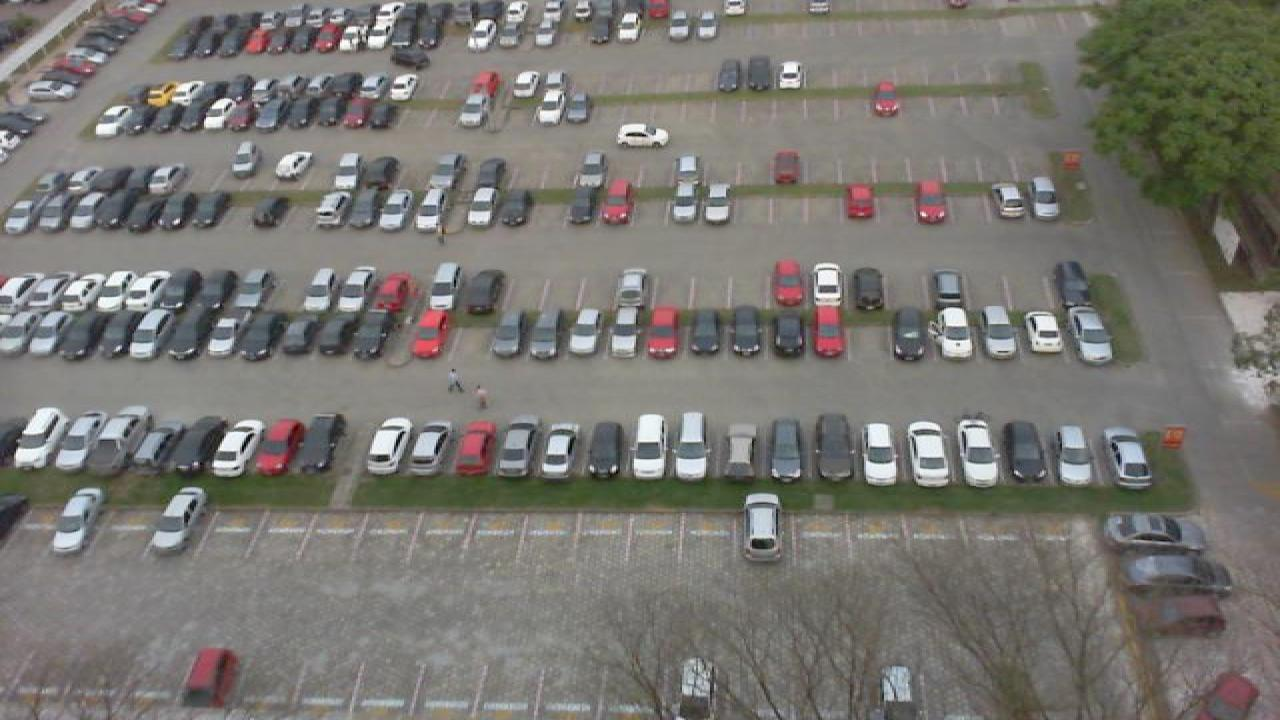Car: (1104, 512, 1212, 553), (1128, 551, 1228, 595), (50, 487, 104, 556), (156, 487, 208, 556), (954, 418, 1002, 486), (92, 407, 144, 469), (168, 417, 222, 476), (298, 413, 348, 476), (126, 418, 182, 474), (210, 419, 264, 477), (906, 420, 952, 488), (1002, 421, 1050, 486), (1104, 428, 1154, 490), (814, 413, 856, 485), (14, 406, 64, 466), (670, 410, 710, 482), (630, 411, 672, 479), (52, 412, 102, 469), (256, 418, 304, 476), (1054, 424, 1098, 487), (498, 416, 542, 478), (742, 493, 782, 561), (408, 422, 458, 476), (366, 418, 414, 474), (1068, 305, 1114, 363), (860, 423, 900, 486), (768, 418, 806, 482), (586, 420, 626, 479), (456, 421, 498, 477), (934, 305, 976, 361), (542, 422, 582, 479), (722, 424, 760, 483), (978, 307, 1020, 359), (422, 262, 464, 314), (808, 305, 848, 359), (890, 307, 930, 361), (462, 72, 502, 125), (1024, 310, 1068, 356), (1052, 260, 1092, 310), (352, 308, 390, 360), (644, 308, 682, 360), (686, 306, 724, 358), (766, 307, 804, 359), (94, 309, 132, 360), (28, 310, 70, 356), (158, 268, 200, 314), (234, 269, 276, 314), (62, 313, 102, 360), (240, 313, 280, 360), (128, 308, 164, 360), (204, 308, 240, 360), (278, 314, 318, 360), (338, 266, 378, 312), (492, 308, 528, 359), (606, 308, 642, 359), (462, 269, 502, 314), (912, 179, 950, 226), (532, 307, 566, 359), (568, 306, 602, 358), (314, 312, 352, 358), (614, 266, 652, 312), (302, 266, 340, 312), (810, 262, 846, 310), (770, 260, 806, 308), (928, 269, 970, 310), (376, 271, 416, 314), (124, 270, 164, 313), (728, 308, 762, 358), (168, 314, 204, 361), (20, 275, 62, 315), (412, 310, 446, 359), (2, 189, 40, 232), (56, 275, 96, 315), (602, 179, 636, 226), (90, 271, 128, 313), (2, 310, 36, 356), (852, 266, 886, 312), (36, 188, 70, 234), (314, 190, 352, 231), (198, 271, 234, 314), (1028, 176, 1062, 221), (842, 181, 878, 223), (464, 182, 496, 229), (380, 187, 414, 231), (140, 190, 174, 232), (702, 181, 734, 225), (616, 122, 670, 148), (500, 185, 534, 226), (350, 182, 380, 228), (200, 192, 236, 230), (992, 182, 1028, 220), (472, 154, 508, 192), (770, 148, 804, 187), (670, 181, 700, 225), (364, 155, 400, 191), (148, 163, 186, 197), (416, 186, 444, 232), (422, 154, 456, 191), (172, 192, 204, 231), (274, 151, 314, 182), (566, 185, 596, 226), (334, 152, 364, 193), (162, 22, 196, 58), (108, 194, 140, 232), (576, 151, 608, 189), (76, 189, 104, 232), (370, 11, 400, 51), (198, 99, 232, 134), (742, 55, 774, 92), (534, 89, 566, 126), (172, 99, 206, 133), (526, 10, 558, 46), (462, 12, 492, 50), (116, 164, 150, 197), (674, 153, 706, 188), (870, 80, 900, 117), (252, 195, 286, 227), (336, 96, 368, 130), (308, 96, 340, 130), (280, 96, 312, 130), (120, 102, 152, 136), (94, 105, 128, 137), (268, 21, 300, 55), (226, 96, 256, 132), (346, 17, 376, 53), (232, 142, 260, 180), (144, 80, 182, 108), (144, 102, 176, 135), (190, 23, 220, 58), (216, 23, 246, 58), (242, 22, 272, 57), (320, 19, 350, 54), (396, 13, 424, 50), (494, 12, 522, 49), (252, 99, 284, 131), (296, 21, 326, 55), (422, 14, 452, 48), (364, 98, 396, 129), (246, 73, 276, 106), (714, 59, 744, 91), (776, 60, 806, 91), (562, 93, 592, 124), (276, 73, 306, 104), (208, 76, 238, 107), (88, 166, 120, 195), (616, 10, 644, 43), (512, 69, 542, 99), (360, 71, 390, 101), (390, 72, 420, 101), (60, 168, 92, 195), (586, 11, 612, 44), (330, 74, 360, 102), (178, 79, 208, 107), (666, 9, 692, 41), (694, 7, 720, 39), (304, 73, 332, 101)
